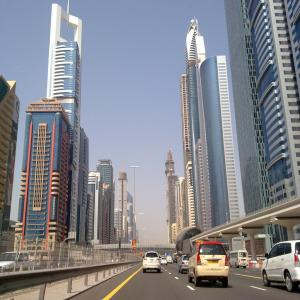Vehicle-registration-plate: (209, 261, 219, 265)
